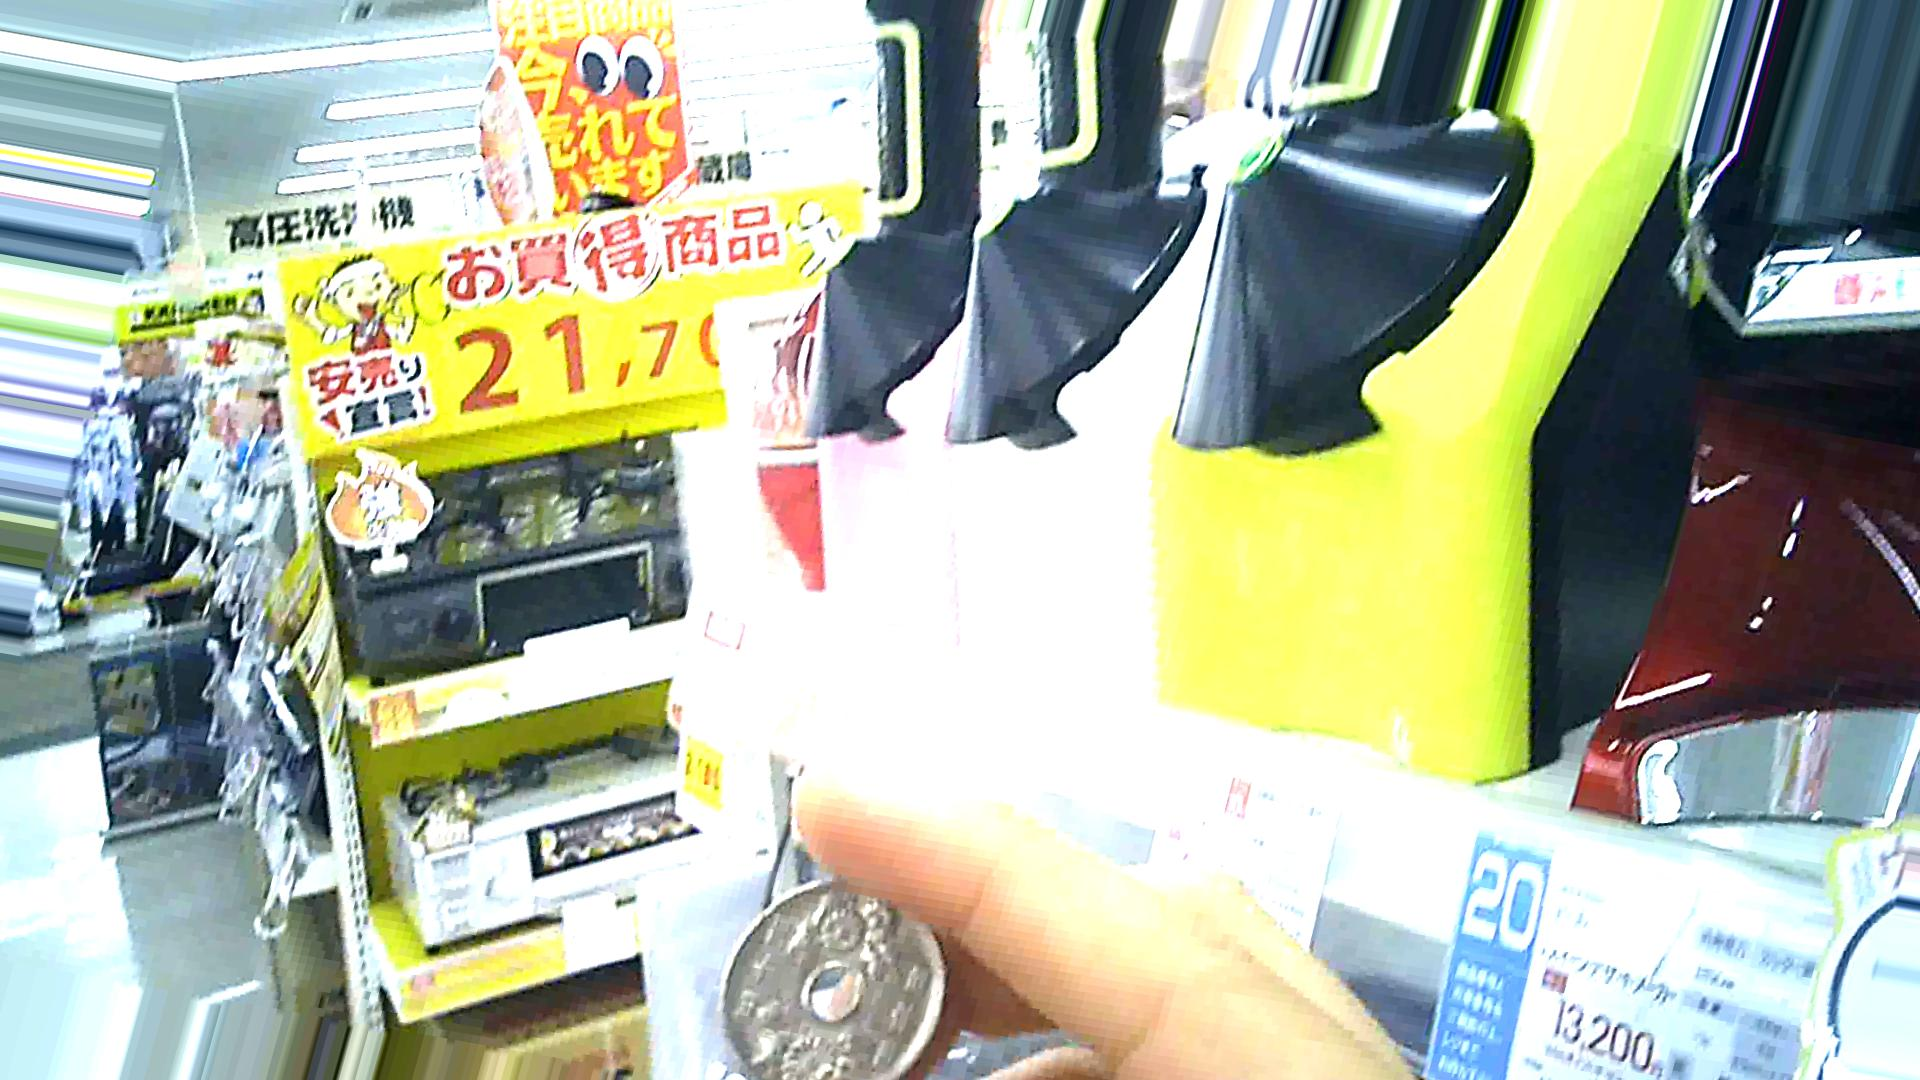50 Yen: (715, 866, 952, 1079)
